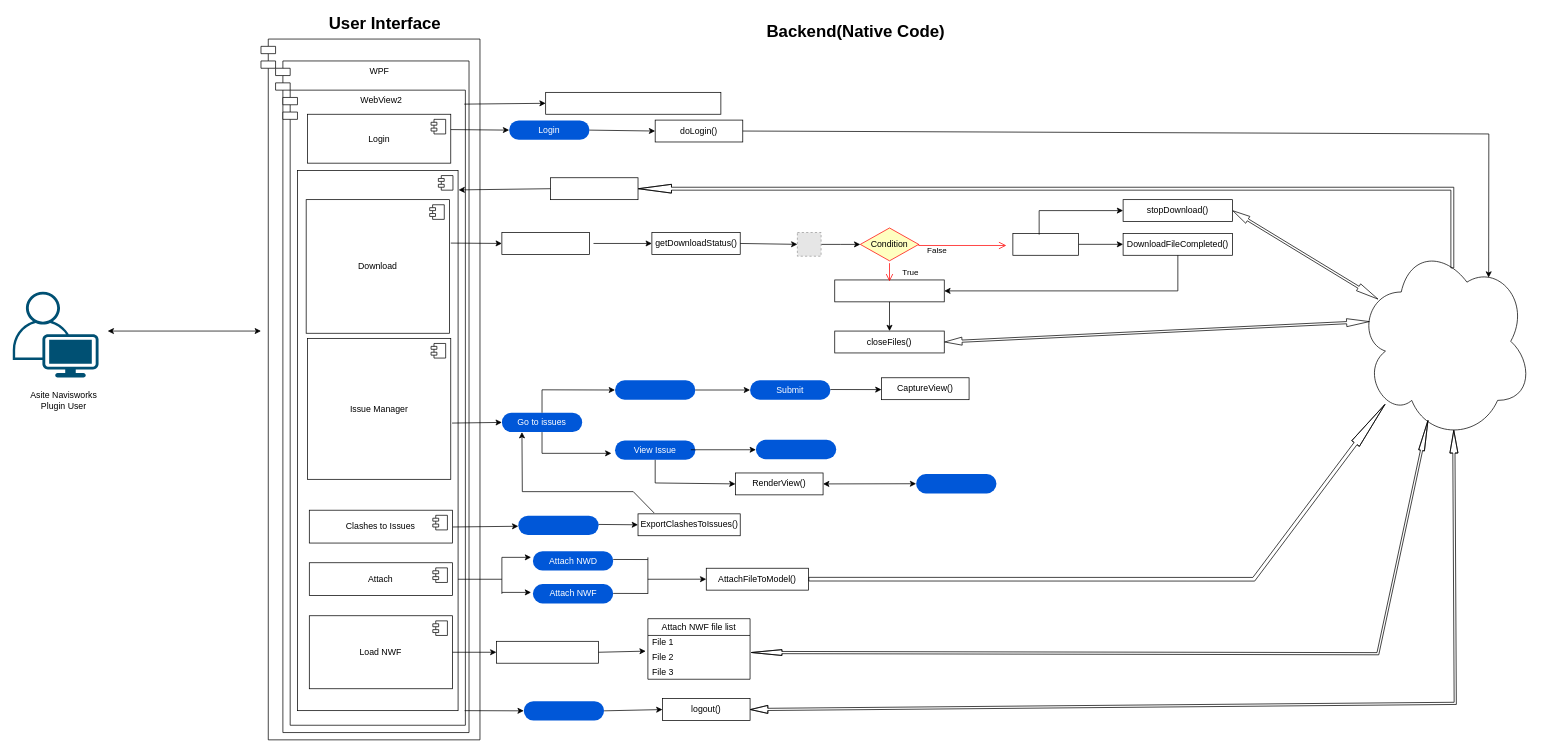
The diagram is 1545 pixels wide and 753 high, and some of its shapes have lost their labels. Grey dashed boxes stand in for pictures. The box of each missing label's shape, as (x1, y1, x2, y2) in pixels:
Asite CDE: (1357, 242, 1533, 440)
CoreWebView2InitializationCompleted(): (545, 92, 721, 114)
Create Comment: (756, 439, 836, 459)
Create Issue: (615, 380, 695, 399)
Dock Pane: (260, 38, 480, 740)
Edit Issue: (916, 474, 996, 493)
Export: (518, 515, 598, 535)
LoadNWFFIle(): (496, 641, 599, 663)
Logout: (523, 701, 604, 720)
OnLoginSuccess(): (550, 177, 638, 200)
openFiles(): (834, 279, 944, 302)
setCurrentDcData(): (501, 232, 589, 254)
startDownload(): (1012, 233, 1079, 255)
